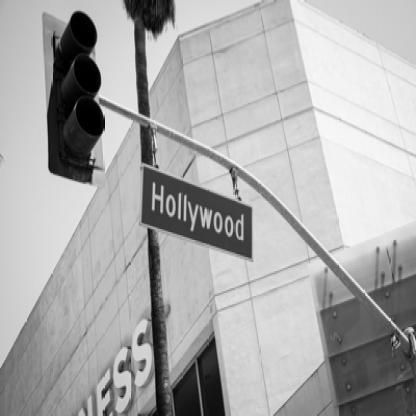trafficlight: (40, 8, 104, 187)
